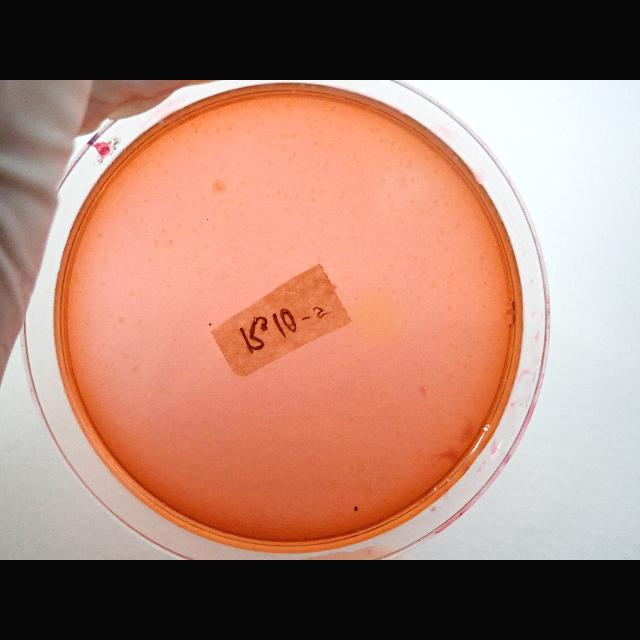colony: (353, 503, 359, 512), (207, 321, 213, 329)
